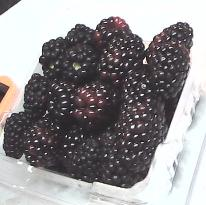berry: (121, 66, 168, 133), (117, 102, 159, 172), (148, 40, 191, 100), (98, 33, 145, 85), (97, 129, 138, 186), (73, 81, 119, 128), (23, 118, 62, 167), (3, 112, 34, 161), (62, 44, 98, 85), (68, 139, 101, 182), (91, 18, 131, 53), (60, 123, 92, 165), (40, 39, 70, 81), (23, 74, 50, 120), (46, 81, 77, 120), (157, 22, 194, 48), (66, 24, 95, 47)
